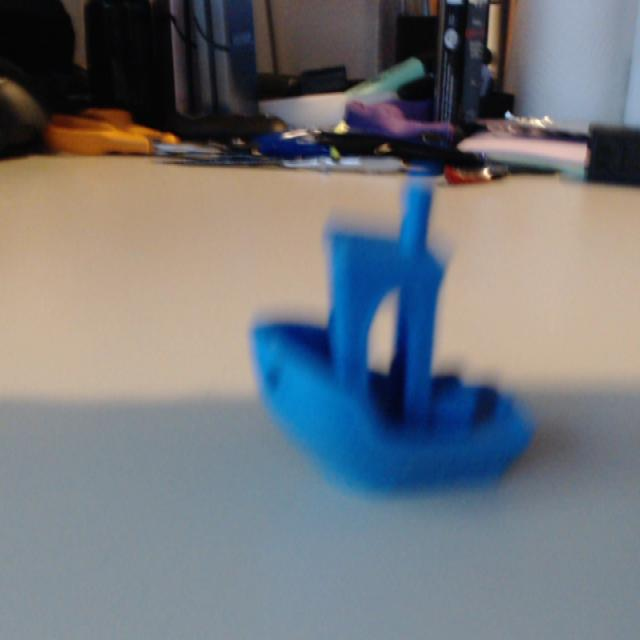benchy: (246, 179, 537, 501)
